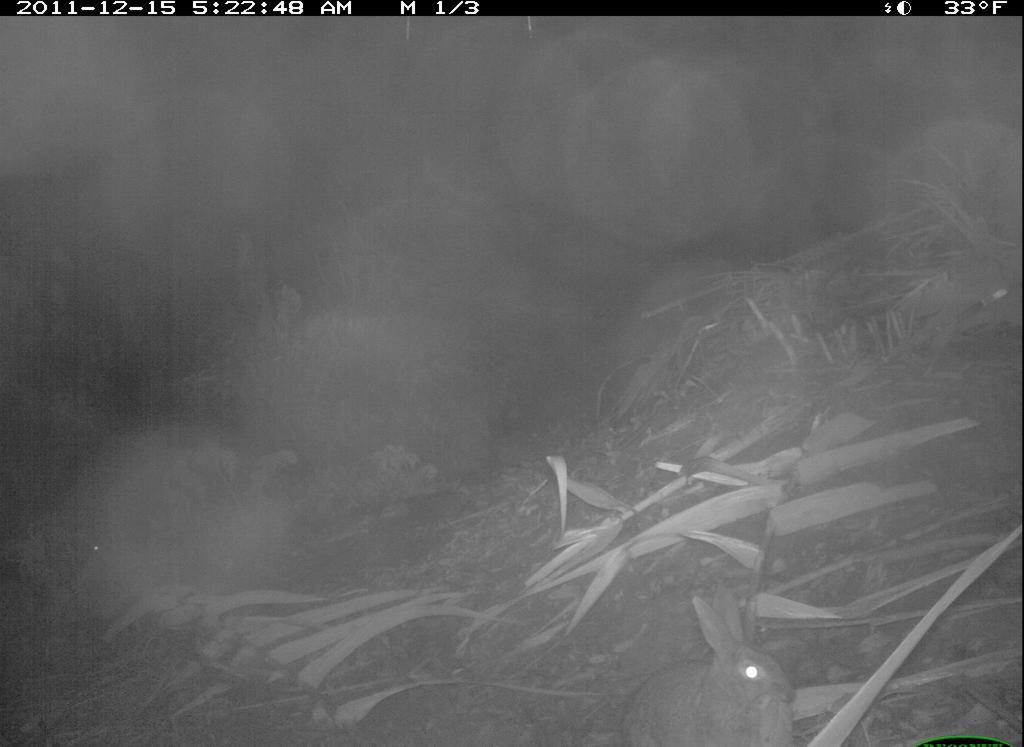rabbit: (605, 570, 804, 747)
